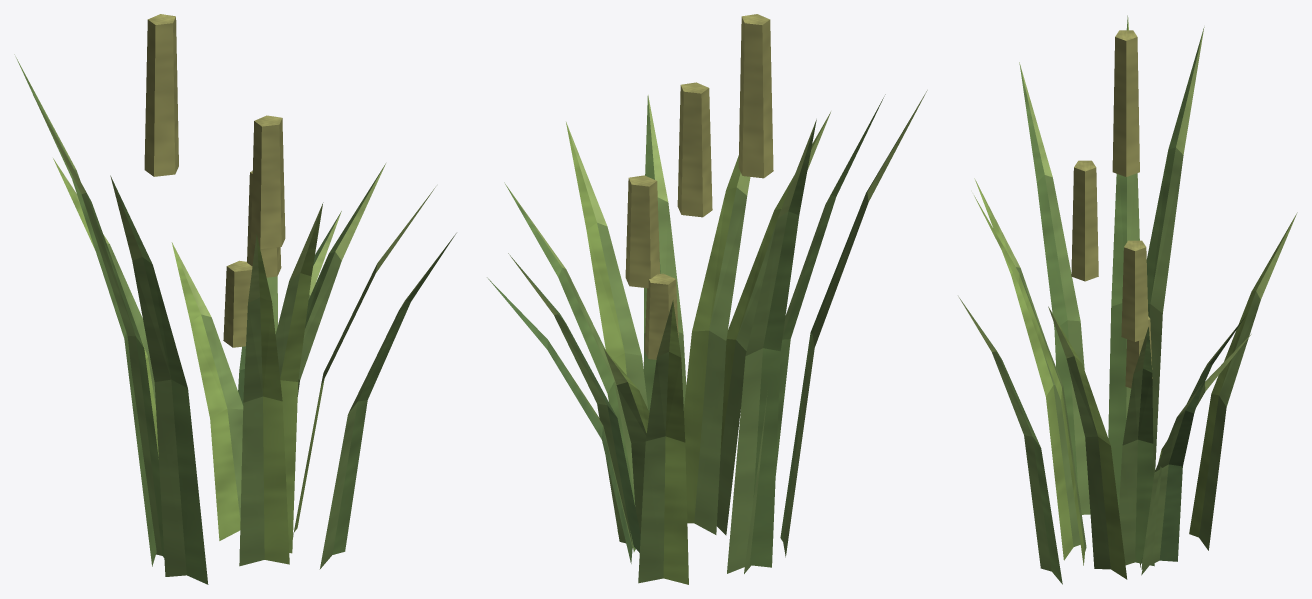
Rendered from grass_wild_seedy_03.fbx.
The picture shows the model from 3 angles, left to right: view 1: azimuth 30°, elevation 25°; view 2: azimuth 150°, elevation 25°; view 3: azimuth 270°, elevation 25°; orthographic projection. The views are drawn at different scales.
Parts seen in each view (by area): view 1: grass_wild_seedy_03; view 2: grass_wild_seedy_03; view 3: grass_wild_seedy_03.
Part boxes in pixels (left/top/right/bottom): grass_wild_seedy_03: left=14, top=14, right=456, bottom=584; grass_wild_seedy_03: left=487, top=14, right=927, bottom=584; grass_wild_seedy_03: left=958, top=15, right=1297, bottom=584.
Size of the model in its own units: 70.2 by 99 by 63.
Materials: 1 (1 with a texture image).
